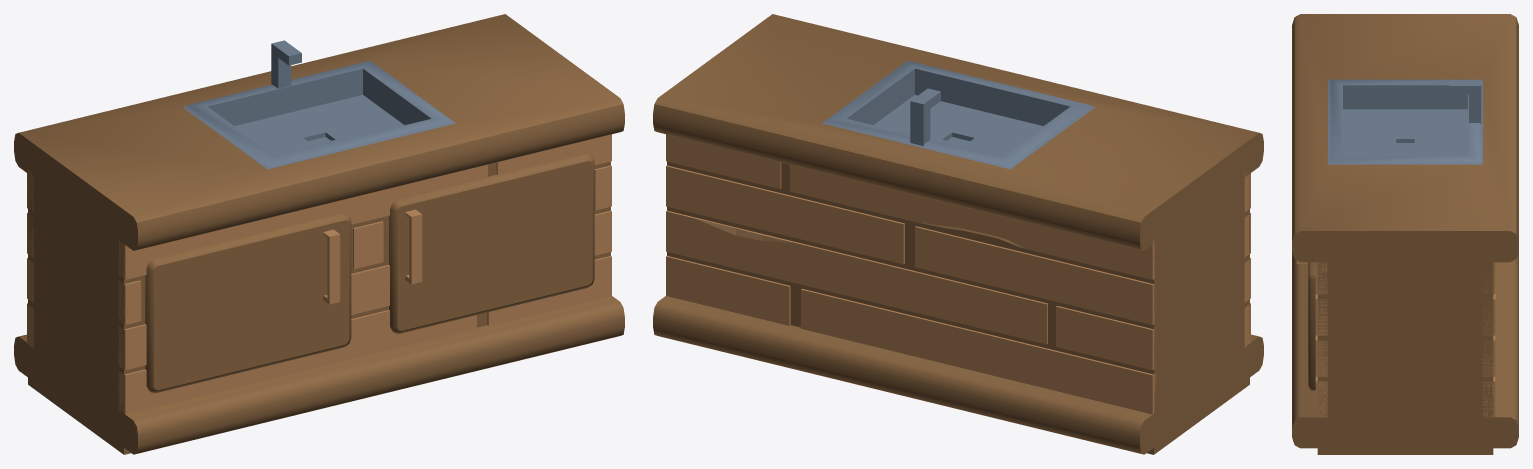
File: counter-sink.glb
3 views of the same model, side by side, from view 1: azimuth 30°, elevation 25°; view 2: azimuth 150°, elevation 25°; view 3: azimuth 270°, elevation 25° (orthographic). The views are drawn at different scales.
Parts seen in each view (by area): view 1: Environment_Counter_Sink; view 2: Environment_Counter_Sink; view 3: Environment_Counter_Sink.
Part boxes in pixels (x1,y1,x2,y2): Environment_Counter_Sink: (14,14,624,454); Environment_Counter_Sink: (653,14,1263,454); Environment_Counter_Sink: (1292,14,1518,454).
Bounding box in the file's own units: 4 × 2.26 × 1.77.
